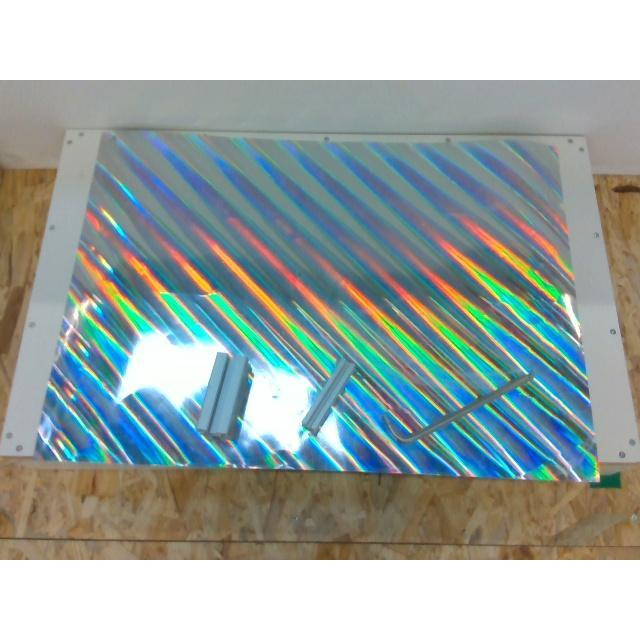AllenKey: (382, 363, 532, 443)
F20_20_G: (300, 360, 352, 432)
S40_40_G: (197, 351, 250, 441)
